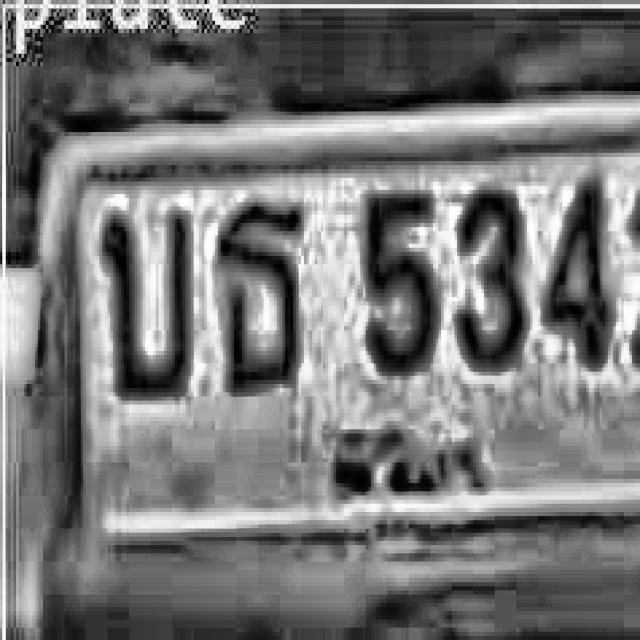license-plate: (35, 111, 640, 594)
